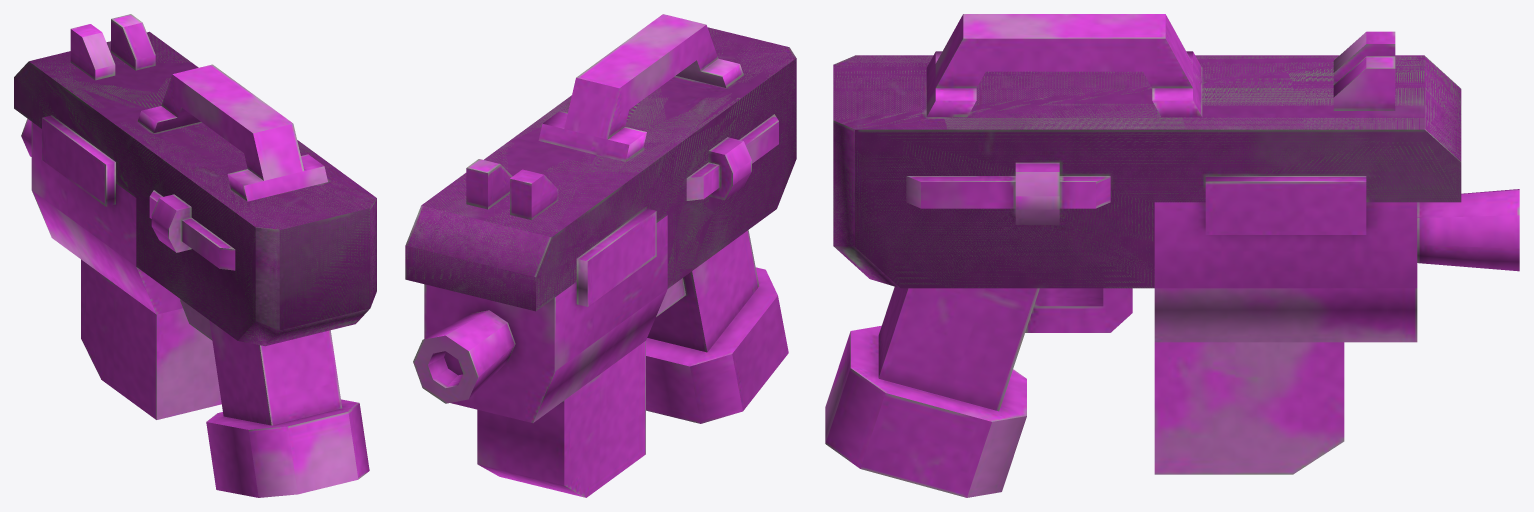
File: blaster-c.glb
3 renders of one model, left to right at view 1: azimuth 30°, elevation 25°; view 2: azimuth 150°, elevation 25°; view 3: azimuth 270°, elevation 25°, orthographic. The views are drawn at different scales.
Visible parts, largest first — view 1: blaster-c; view 2: blaster-c; view 3: blaster-c.
Boxes of the visible parts, bbox=[...] form: blaster-c: bbox=[14, 14, 376, 497]; blaster-c: bbox=[405, 14, 796, 497]; blaster-c: bbox=[825, 14, 1519, 497].
Bounding box in the file's own units: 0.165 × 0.3379 × 0.4754.
Materials: 1 (1 with a texture image).
